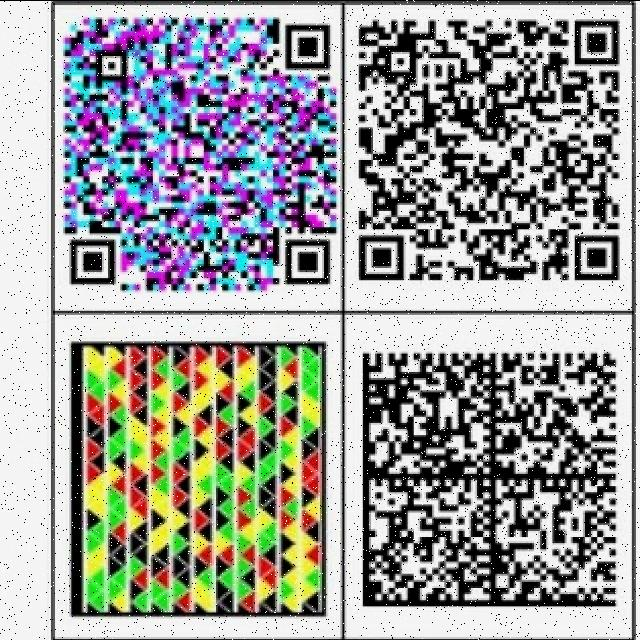datamatrix: (356, 342, 624, 616)
